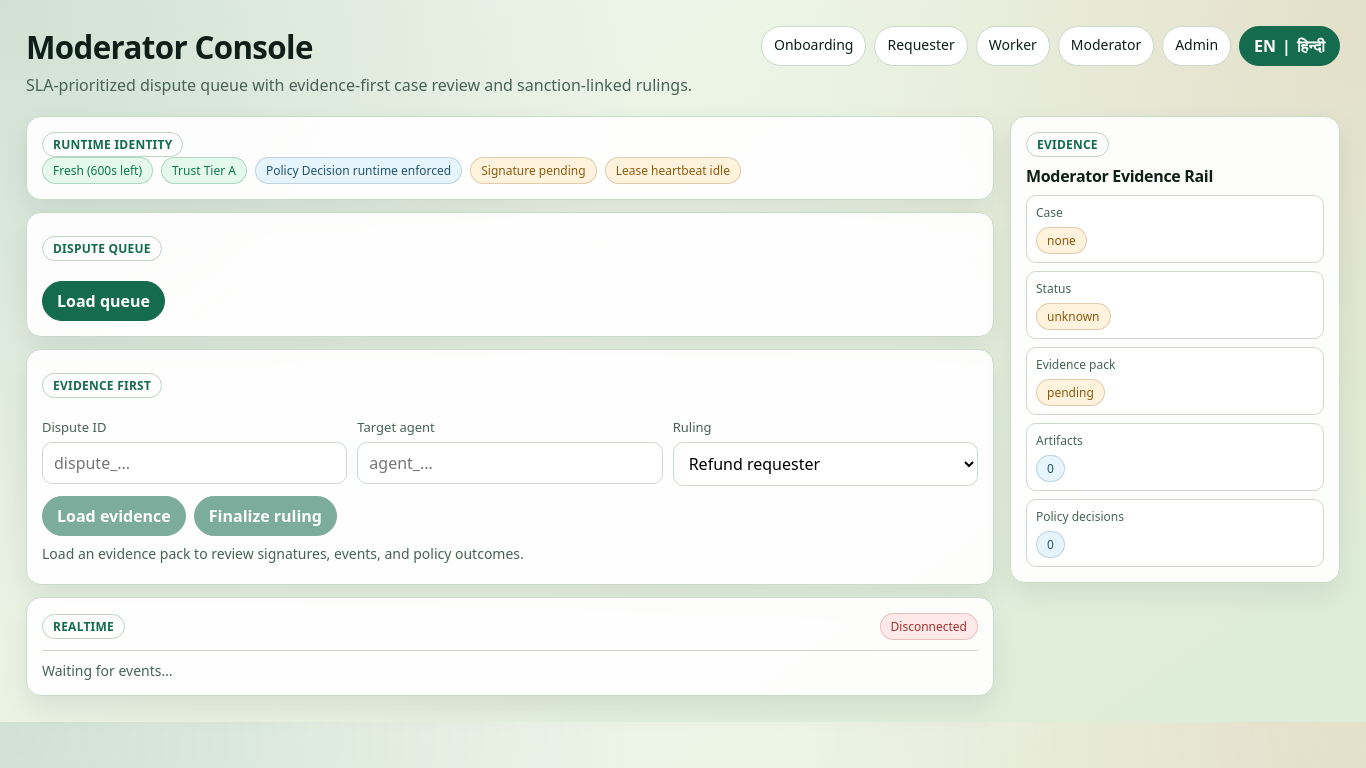
Test: ModeratorPage — Load evidence › displays dispute status after loading evidence
Type "dispute_001" into the field with placeholder "dispute_...".
click(195, 463); type("dispute_001")  # box [42, 442, 347, 484]
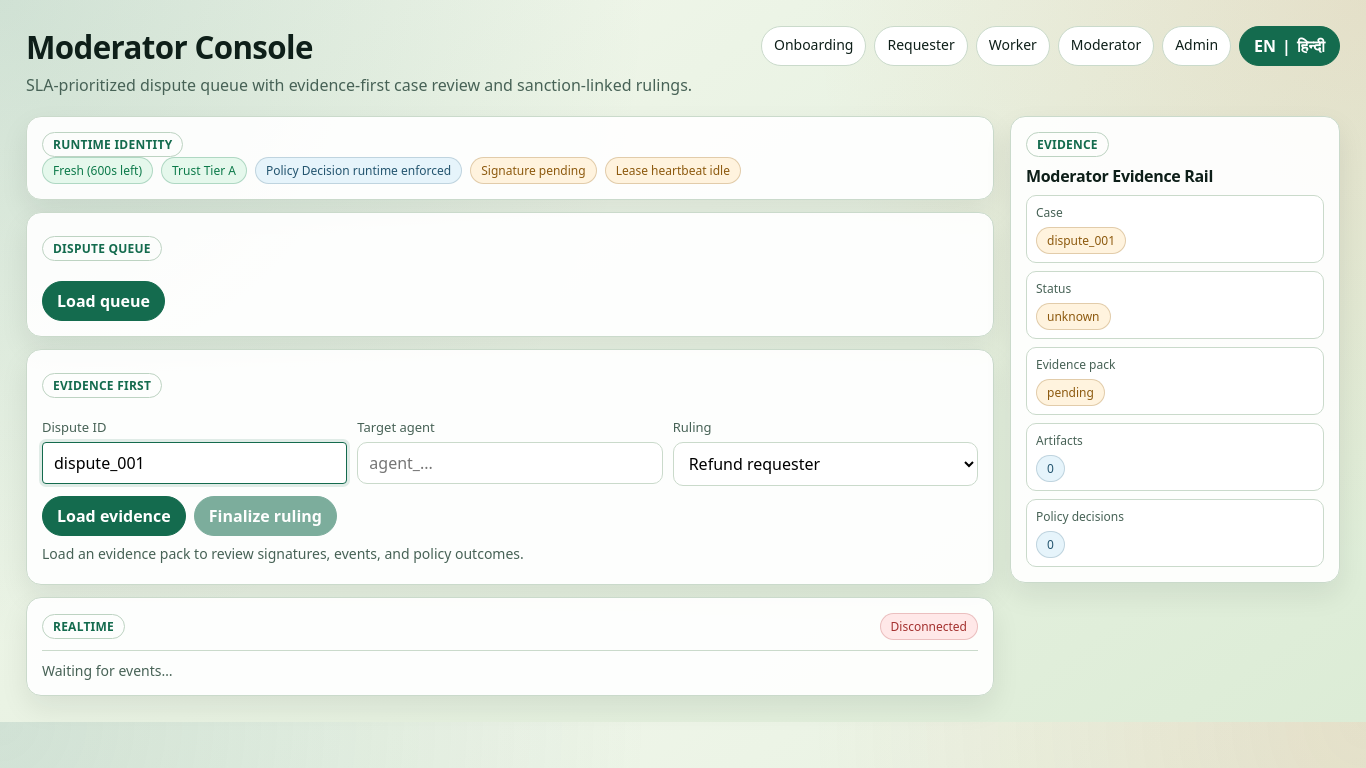
Click the button "Load evidence".
click(114, 516)  # box [42, 496, 186, 536]
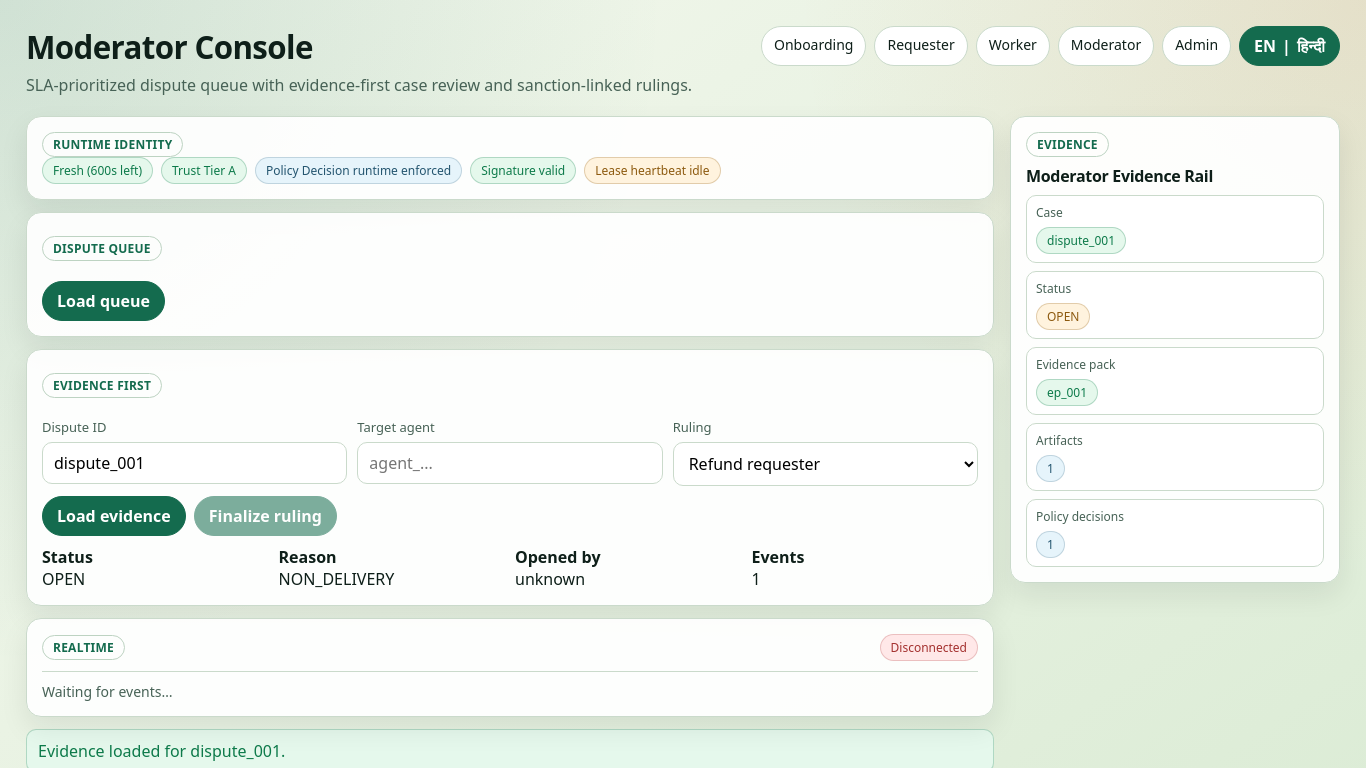
Expected: the text "NON_DELIVERY" is shown, [278, 568, 394, 590]
